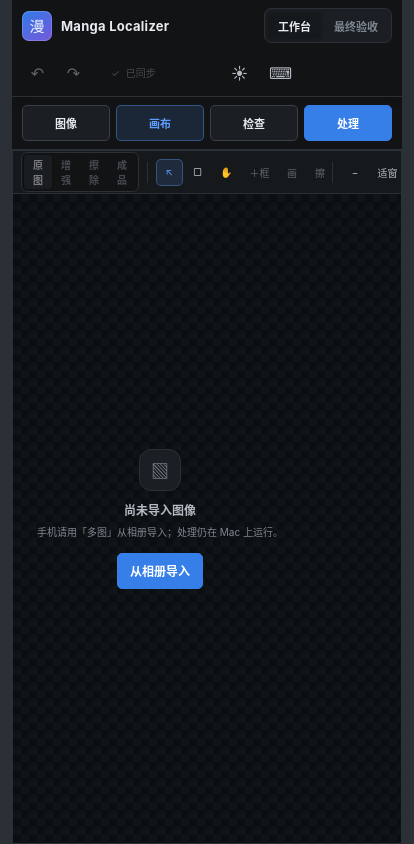
Test: desktop workbench interactions › keeps project settings available before images are imported
Step 1. Click the button "检查" → [254, 123], box [210, 105, 298, 141]
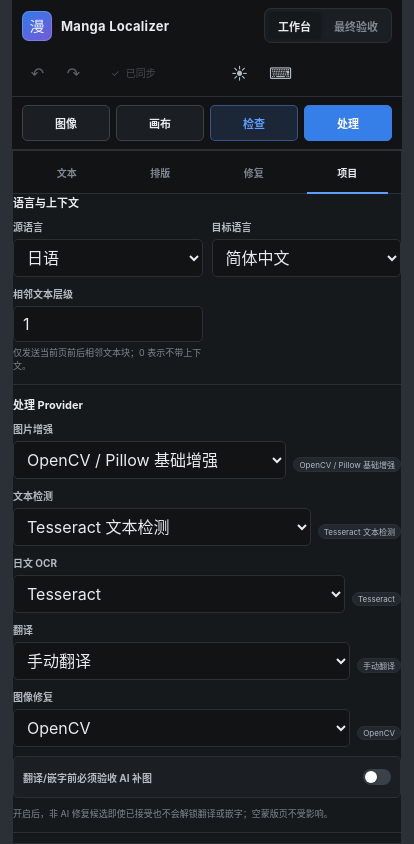
expect the element with class "inspector" is shown: met
expect the dropdown labelled "翻译" is shown: met, box [13, 642, 350, 680]
